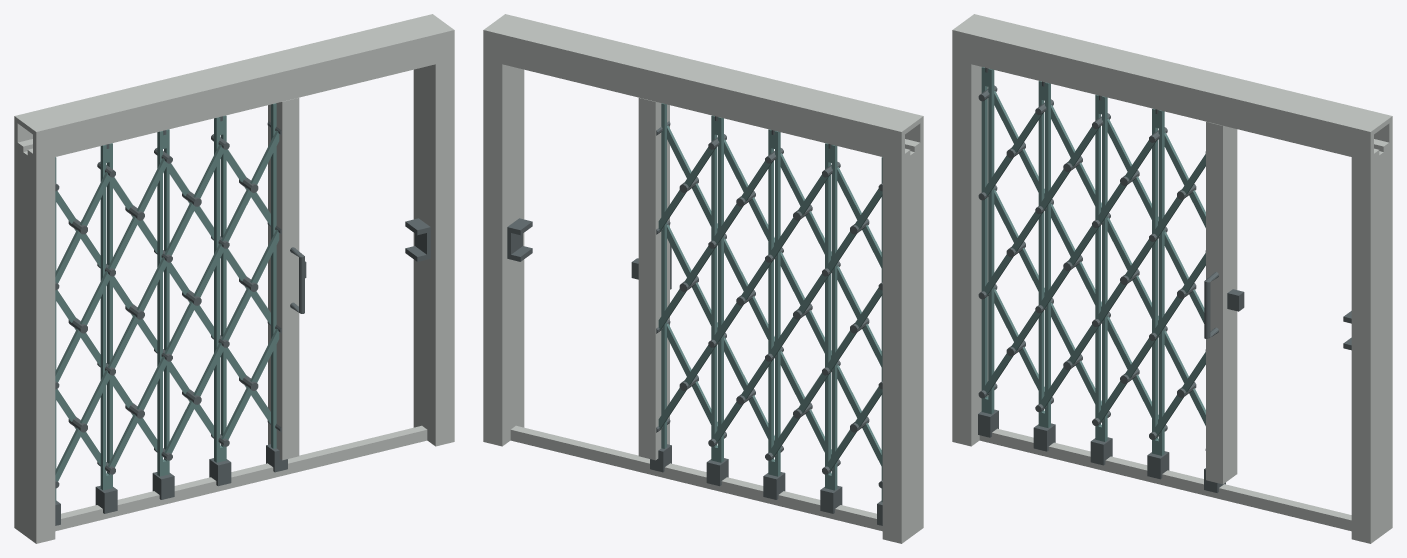
The picture shows the model from 3 angles, left to right: view 1: azimuth 30°, elevation 25°; view 2: azimuth 150°, elevation 25°; view 3: azimuth 330°, elevation 25°; orthographic projection.
Parts seen in each view (by area): view 1: WholeUpperOpenTrack, WholeLeftFramePost, WholeRightReceivingPost, WholeMovingLeadingStile, WholeGroundGuide, WholeOpenSlotStave_3, WholeOpenSlotStave_1, WholeOpenSlotStave_2, WholeOpenSlotStave_4, WholeRisingCrossLink_(3, 2), WholeRisingCrossLink_(3, 1), WholeRisingCrossLink_(3, 0) (+13 smaller); view 2: WholeUpperOpenTrack, WholeLeftFramePost, WholeRightReceivingPost, WholeMovingLeadingStile, WholeGroundGuide, WholeOpenSlotStave_3, WholeOpenSlotStave_1, WholeOpenSlotStave_2, WholeOpenSlotStave_4, WholeReceivingOpenStrike, WholeRisingCrossLink_(2, 0), WholeRisingCrossLink_(2, 1) (+25 smaller); view 3: WholeUpperOpenTrack, WholeRightReceivingPost, WholeLeftFramePost, WholeMovingLeadingStile, WholeGroundGuide, WholeOpenSlotStave_0, WholeOpenSlotStave_1, WholeOpenSlotStave_3, WholeOpenSlotStave_2, WholeFallingCrossLink_(0, 0), WholeFallingCrossLink_(0, 1), WholeFallingCrossLink_(1, 2) (+24 smaller).
Part boxes in pixels (x1=…): WholeUpperOpenTrack: x1=14, y1=14, x2=454, y2=161; WholeLeftFramePost: x1=14, y1=146, x2=55, y2=543; WholeRightReceivingPost: x1=413, y1=59, x2=454, y2=446; WholeMovingLeadingStile: x1=268, y1=97, x2=299, y2=460; WholeGroundGuide: x1=55, y1=425, x2=427, y2=531; WholeOpenSlotStave_3: x1=214, y1=115, x2=226, y2=462; WholeOpenSlotStave_1: x1=100, y1=143, x2=112, y2=490; WholeOpenSlotStave_2: x1=157, y1=129, x2=169, y2=476; WholeOpenSlotStave_4: x1=271, y1=103, x2=276, y2=448; WholeRisingCrossLink_(3, 2): x1=221, y1=130, x2=279, y2=241; WholeRisingCrossLink_(3, 1): x1=221, y1=229, x2=279, y2=340; WholeRisingCrossLink_(3, 0): x1=221, y1=328, x2=279, y2=439; WholeUpperOpenTrack: x1=483, y1=14, x2=923, y2=161; WholeLeftFramePost: x1=882, y1=146, x2=923, y2=543; WholeRightReceivingPost: x1=483, y1=59, x2=524, y2=446; WholeMovingLeadingStile: x1=638, y1=97, x2=669, y2=460; WholeGroundGuide: x1=510, y1=425, x2=882, y2=531; WholeOpenSlotStave_3: x1=711, y1=115, x2=723, y2=462; WholeOpenSlotStave_1: x1=825, y1=143, x2=837, y2=490; WholeOpenSlotStave_2: x1=768, y1=129, x2=780, y2=476; WholeOpenSlotStave_4: x1=661, y1=103, x2=666, y2=448; WholeReceivingOpenStrike: x1=507, y1=218, x2=532, y2=261; WholeRisingCrossLink_(2, 0): x1=724, y1=337, x2=774, y2=443; WholeRisingCrossLink_(2, 1): x1=724, y1=238, x2=774, y2=344; WholeUpperOpenTrack: x1=952, y1=14, x2=1392, y2=161; WholeRightReceivingPost: x1=1351, y1=146, x2=1392, y2=543; WholeLeftFramePost: x1=952, y1=59, x2=988, y2=446; WholeMovingLeadingStile: x1=1206, y1=121, x2=1237, y2=484; WholeGroundGuide: x1=979, y1=428, x2=1351, y2=531; WholeOpenSlotStave_0: x1=981, y1=67, x2=994, y2=414; WholeOpenSlotStave_1: x1=1038, y1=81, x2=1050, y2=427; WholeOpenSlotStave_3: x1=1152, y1=108, x2=1164, y2=455; WholeOpenSlotStave_2: x1=1095, y1=95, x2=1107, y2=441; WholeFallingCrossLink_(0, 0): x1=994, y1=289, x2=1044, y2=395; WholeFallingCrossLink_(0, 1): x1=994, y1=190, x2=1044, y2=296; WholeFallingCrossLink_(1, 2): x1=1051, y1=104, x2=1101, y2=211.
Size of the model in its own units: 2.21 by 2.08 by 0.2634.
